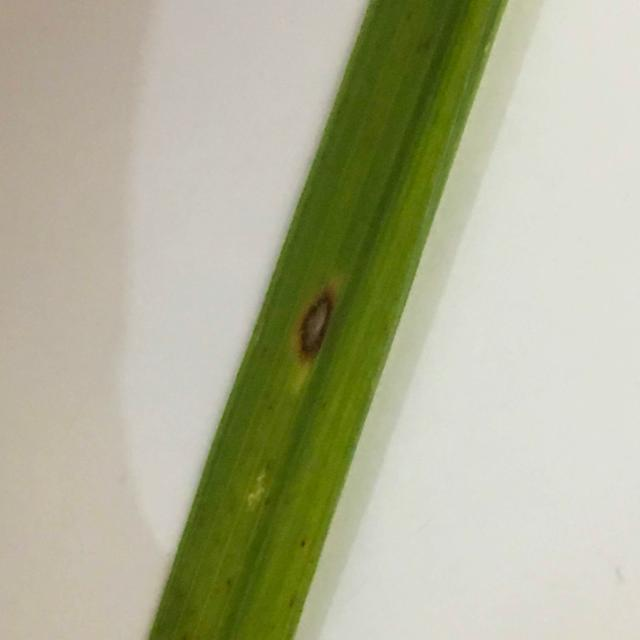Blast: (296, 296, 332, 358)
